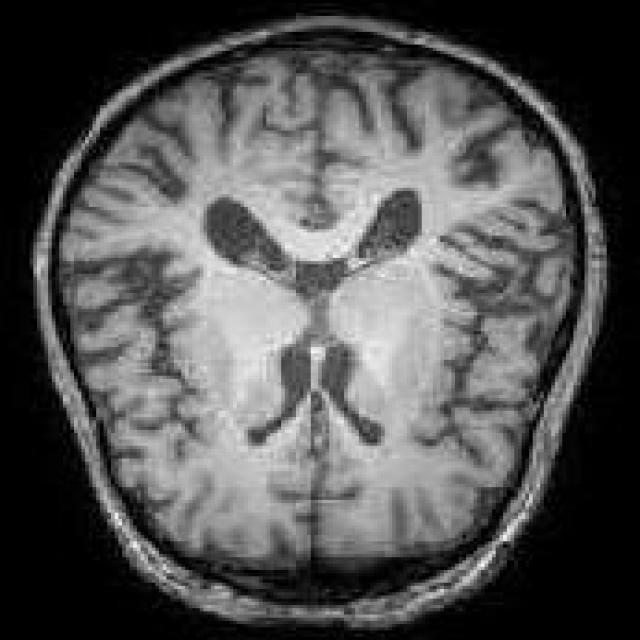notumor: (33, 16, 610, 634)
